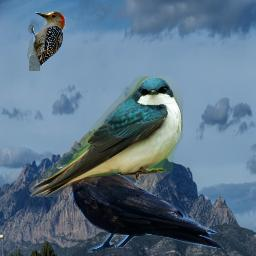Crow: (55, 159, 224, 253)
Swallow: (29, 76, 183, 197)
Woodpecker: (27, 8, 73, 71)
